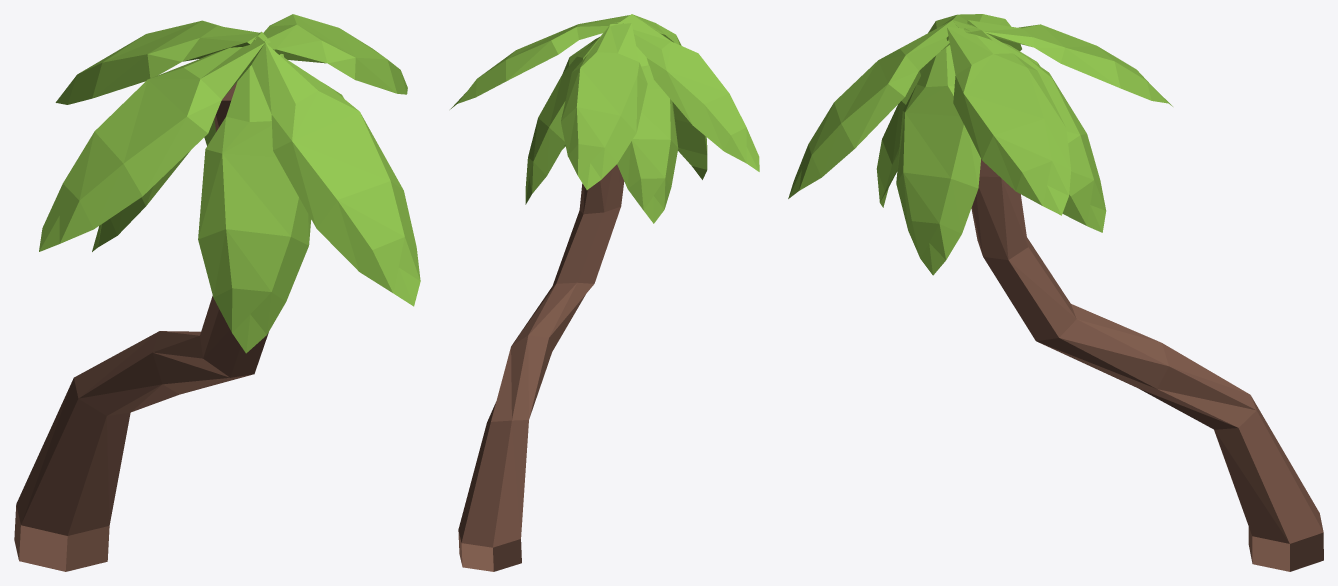
The model's file is palm_tree_2.glb.
The picture shows the model from 3 angles, left to right: view 1: azimuth 30°, elevation 25°; view 2: azimuth 150°, elevation 25°; view 3: azimuth 270°, elevation 25°; orthographic projection. The views are drawn at different scales.
Parts seen in each view (by area): view 1: Node; view 2: Node; view 3: Node.
Boxes of the visible parts, box(x1,y1,x2,y2) form: Node: box(14, 14, 420, 571); Node: box(450, 14, 759, 571); Node: box(788, 14, 1323, 571).
Bounding box in the file's own units: 0.2315 × 0.3554 × 0.3236.
